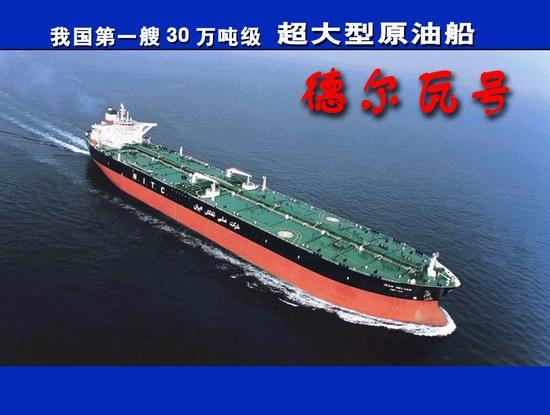Cargoship: (82, 102, 462, 334)
